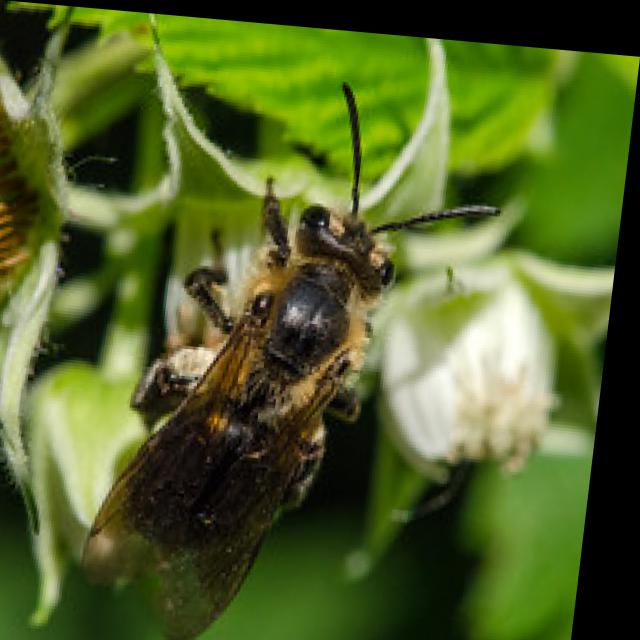Abeille: (68, 38, 536, 639)
